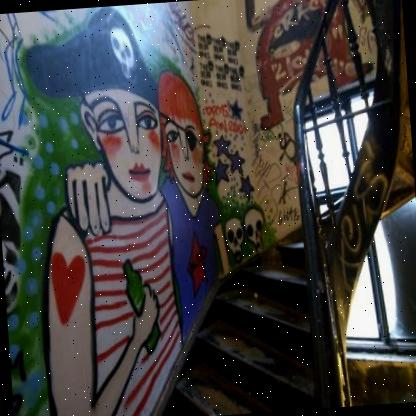stair: (145, 235, 341, 416)
